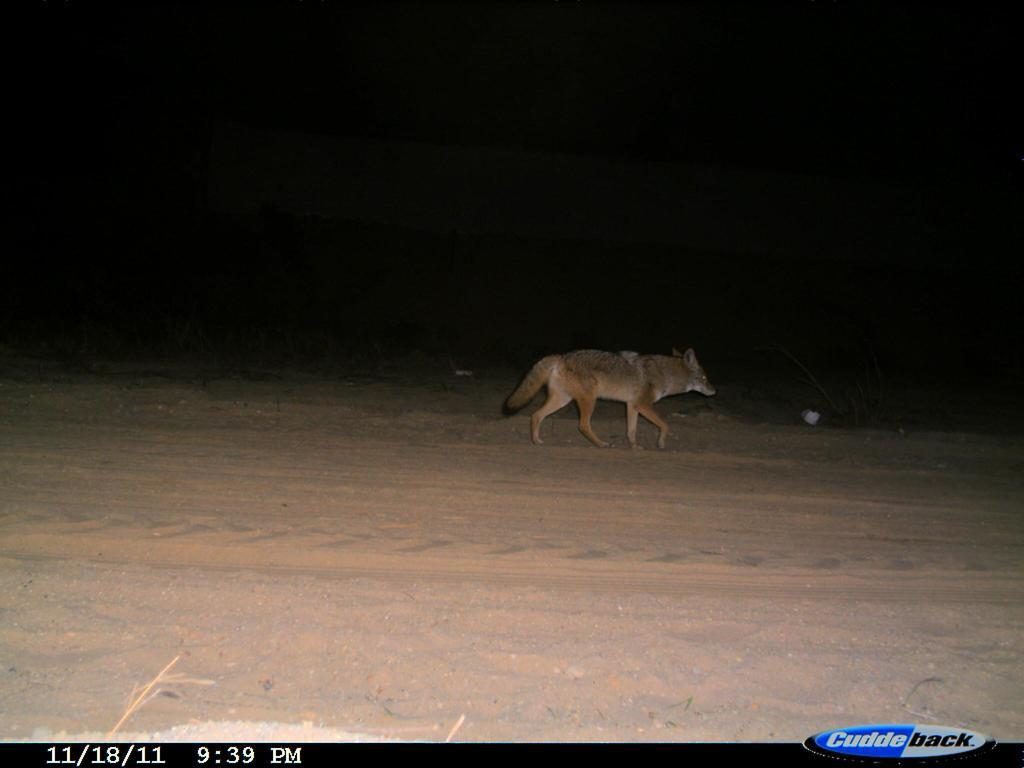coyote: (495, 342, 724, 464)
